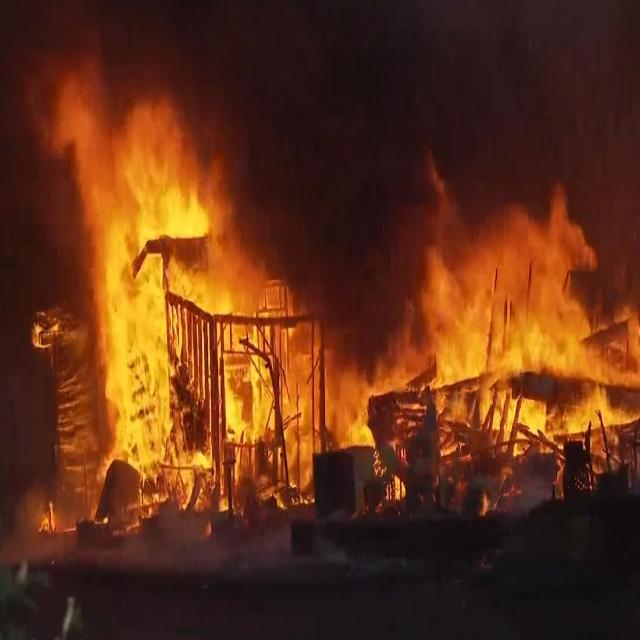Fire: (82, 102, 640, 537)
Smoke: (199, 19, 632, 381), (21, 53, 105, 562)
